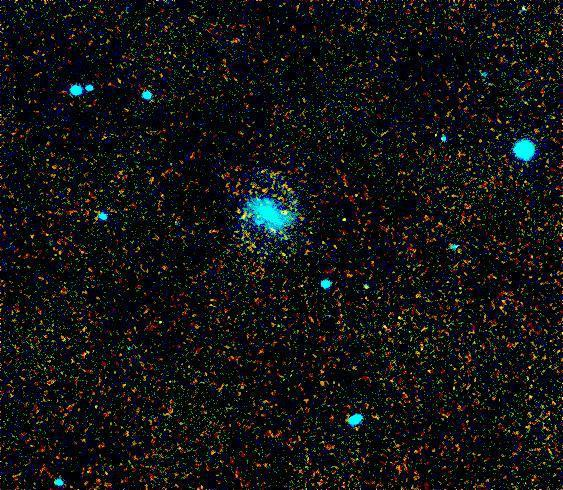star: (267, 197, 297, 227)
